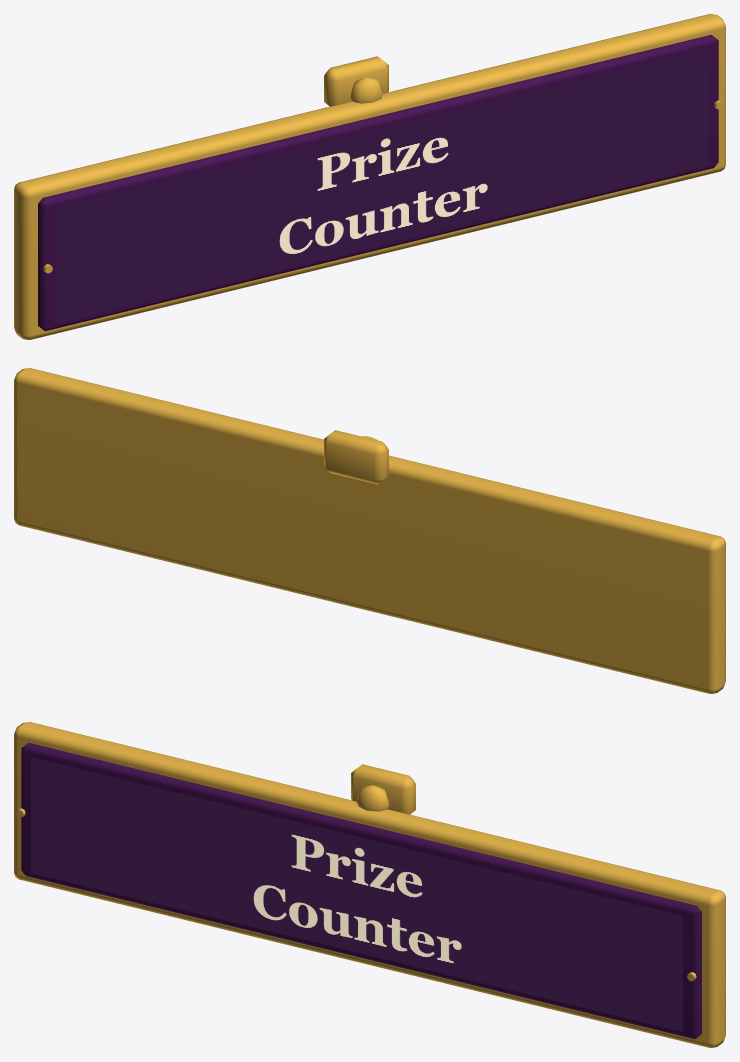
Rendered from price_tag.glb.
3 views of the same model, one above another, from view 1: azimuth 30°, elevation 25°; view 2: azimuth 150°, elevation 25°; view 3: azimuth 330°, elevation 25° (orthographic).
Visible parts, largest first — view 1: tag_face, tag_bezel, tag_enamel, tag_mount, tag_joint; view 2: tag_bezel, tag_mount; view 3: tag_face, tag_bezel, tag_enamel, tag_mount, tag_joint.
Boxes of the visible parts, x1,y1,x2,y2 form: tag_face: (57, 49, 708, 323); tag_bezel: (14, 14, 725, 339); tag_enamel: (38, 34, 718, 331); tag_mount: (324, 56, 388, 106); tag_joint: (350, 77, 382, 103); tag_bezel: (14, 368, 725, 693); tag_mount: (324, 430, 388, 484); tag_face: (31, 757, 682, 1031); tag_bezel: (14, 722, 725, 1047); tag_enamel: (21, 742, 701, 1039); tag_mount: (351, 764, 415, 814); tag_joint: (357, 785, 389, 811).
Size of the model in its own units: 0.75 by 0.183 by 0.0635.
3 materials, 1 textured.
